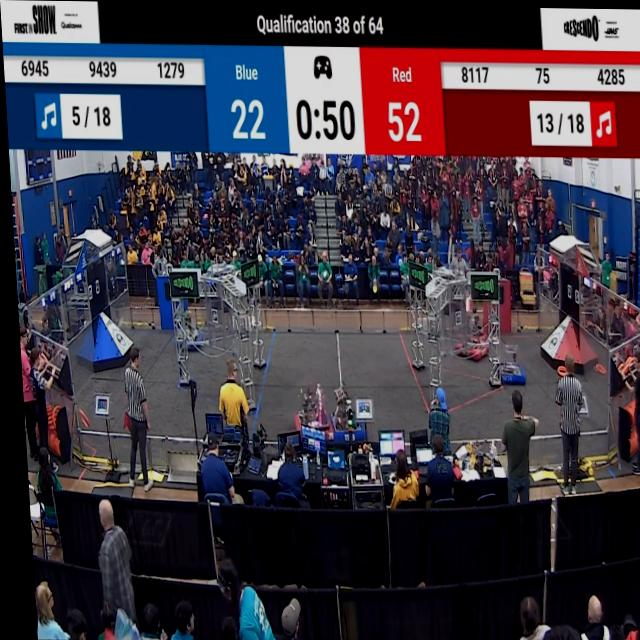Robot: (287, 377, 329, 443), (322, 382, 366, 445), (447, 299, 488, 363), (164, 291, 205, 354), (483, 338, 524, 391), (456, 298, 488, 346)
